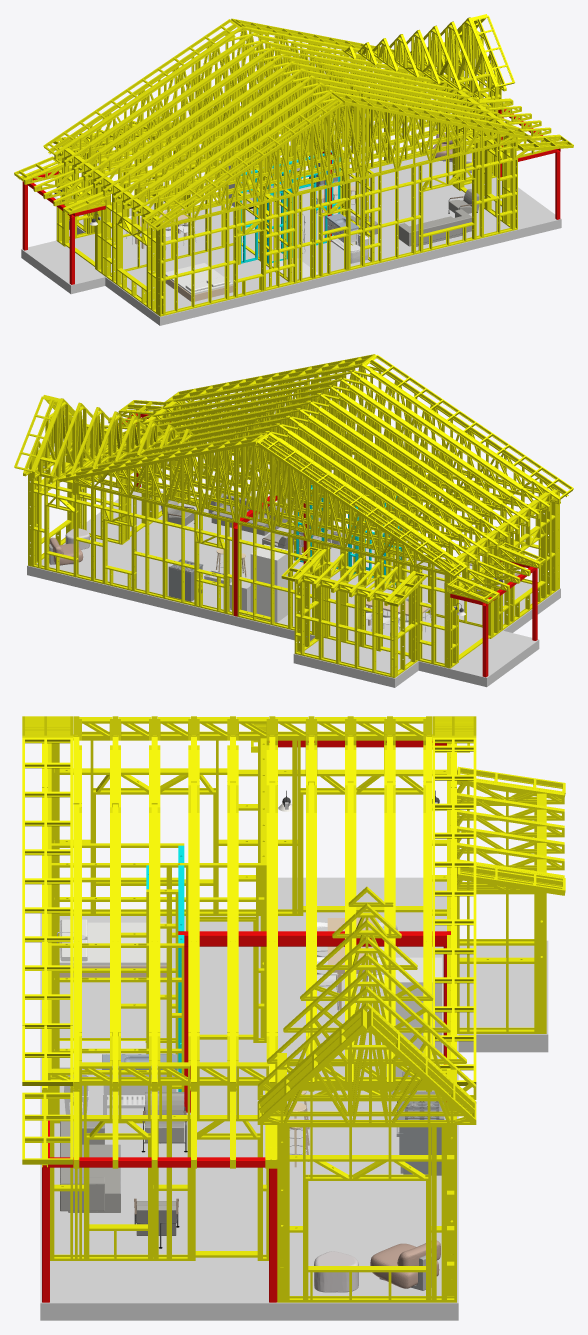
Rendered from custom-home-lgsf.glb.
3 renders of one model, top to bottom at view 1: azimuth 30°, elevation 25°; view 2: azimuth 150°, elevation 25°; view 3: azimuth 270°, elevation 25°, orthographic. The views are drawn at different scales.
Visible parts, largest first — view 1: part_30, part_00, part_29, part_03, part_32, part_01, part_02, part_10; view 2: part_30, part_00, part_01, part_29, part_03, part_18, part_32, part_14, part_33; view 3: part_30, part_00, part_29, part_03, part_01, part_18, part_33, part_02, part_28, part_32, part_12, part_05.
Boxes of the visible parts, x1,y1,x2,y2 form: part_30: [14, 14, 573, 316]; part_00: [21, 154, 561, 325]; part_29: [22, 109, 560, 284]; part_03: [350, 189, 479, 246]; part_32: [240, 151, 340, 263]; part_01: [165, 165, 263, 294]; part_02: [135, 208, 233, 301]; part_10: [141, 225, 368, 263]; part_30: [14, 354, 573, 677]; part_00: [27, 486, 560, 687]; part_01: [250, 544, 518, 622]; part_29: [122, 413, 537, 677]; part_03: [161, 493, 293, 549]; part_18: [168, 559, 203, 601]; part_32: [296, 485, 401, 584]; part_14: [204, 570, 250, 611]; part_33: [49, 537, 83, 565]; part_30: [22, 716, 565, 1302]; part_00: [40, 877, 548, 1320]; part_29: [42, 740, 450, 1302]; part_03: [60, 1092, 184, 1235]; part_01: [59, 919, 441, 1094]; part_18: [397, 1101, 443, 1175]; part_33: [370, 1240, 440, 1288]; part_02: [59, 918, 376, 1009]; part_28: [314, 1251, 358, 1292]; part_32: [146, 845, 184, 1091]; part_12: [103, 1074, 176, 1114]; part_05: [59, 1041, 145, 1069].
Size of the model in its own units: 16.09 by 6.31 by 8.45.
